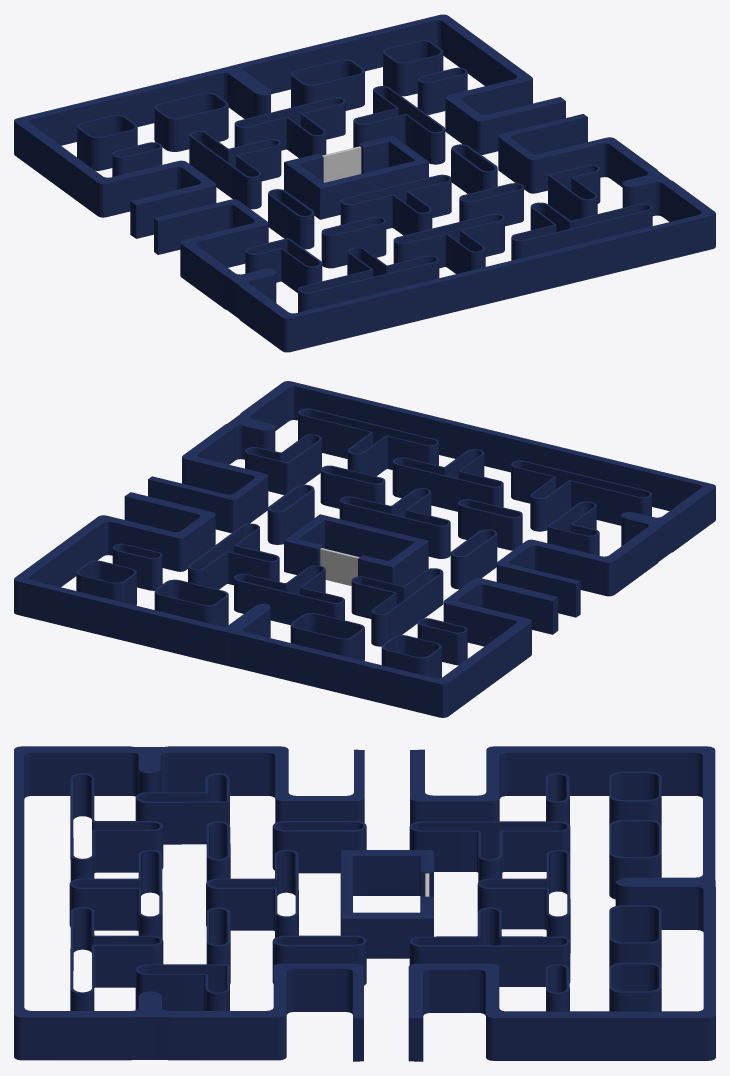
Rendered from level.obj.
3 renders of one model, top to bottom at view 1: azimuth 30°, elevation 25°; view 2: azimuth 150°, elevation 25°; view 3: azimuth 270°, elevation 25°, orthographic. The views are drawn at different scales.
Parts seen in each view (by area): view 1: polySurface2 pacman_env, pacman_env pCylinder1, pacman_env pCube6; view 2: polySurface2 pacman_env, pacman_env pCylinder1, pacman_env pCube6; view 3: pacman_env pCylinder1, polySurface2 pacman_env.
Boxes of the visible parts, bbox=[...] form: polySurface2 pacman_env: bbox=[14, 14, 715, 352]; pacman_env pCylinder1: bbox=[77, 40, 652, 312]; pacman_env pCube6: bbox=[322, 146, 361, 182]; polySurface2 pacman_env: bbox=[14, 381, 715, 717]; pacman_env pCylinder1: bbox=[76, 408, 651, 678]; pacman_env pCube6: bbox=[320, 548, 359, 585]; pacman_env pCylinder1: bbox=[69, 771, 661, 1011]; polySurface2 pacman_env: bbox=[14, 746, 715, 1061].
Size of the model in its own units: 30.54 by 2.27 by 33.3.
